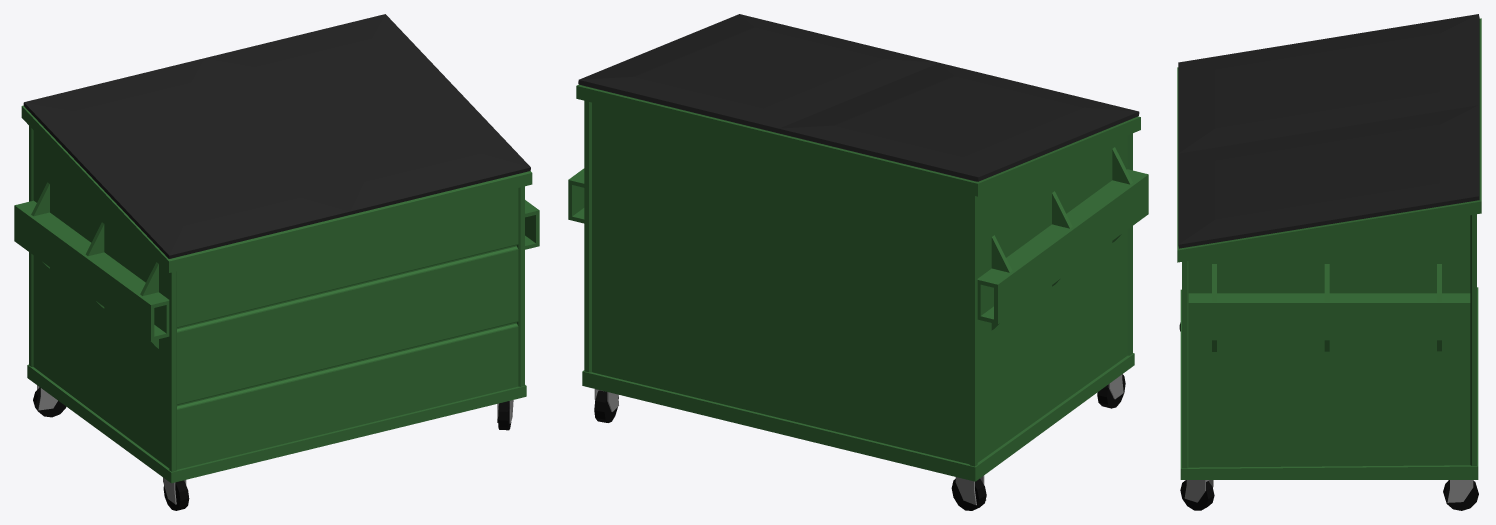
The model's file is Dumpster.fbx.
3 renders of one model, left to right at view 1: azimuth 30°, elevation 25°; view 2: azimuth 150°, elevation 25°; view 3: azimuth 270°, elevation 25°, orthographic. The views are drawn at different scales.
Visible parts, largest first — view 1: Joined; view 2: Joined; view 3: Joined.
Part boxes in pixels (x1=…): Joined: x1=14, y1=14, x2=539, y2=510; Joined: x1=568, y1=14, x2=1148, y2=510; Joined: x1=1177, y1=14, x2=1481, y2=510.
Bounding box in the file's own units: 2.2 × 1.44 × 1.68.
